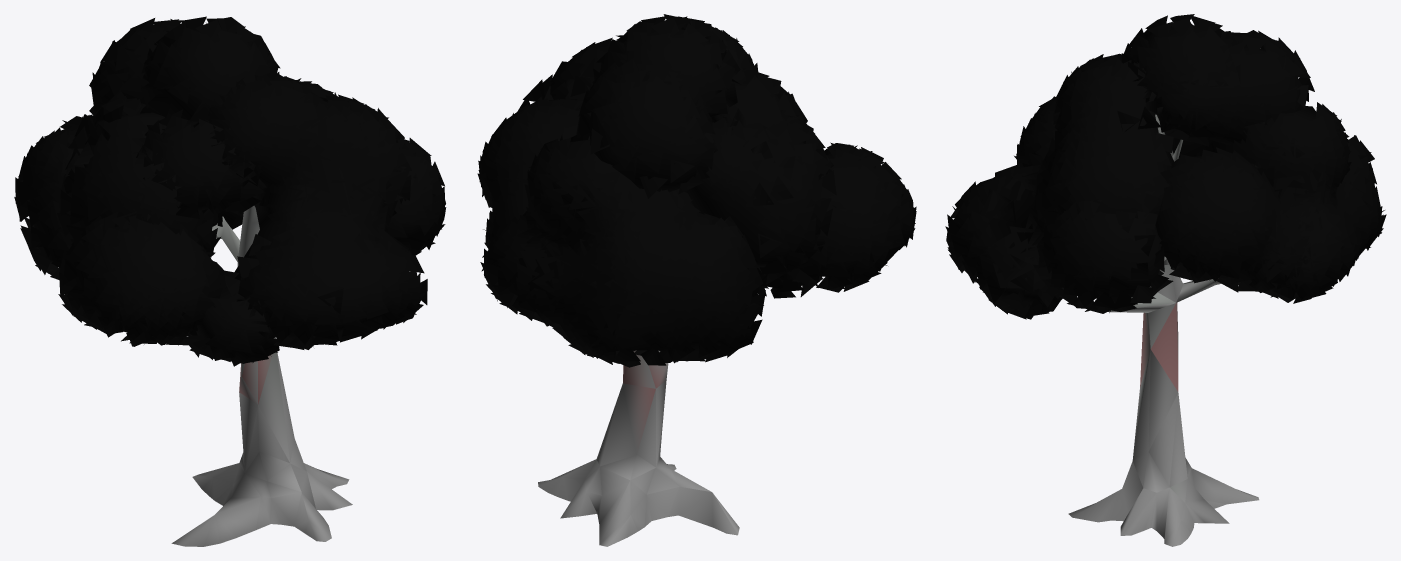
File: SM_ENV_LKNVLD_Tree_B_Lod1.gltf
3 views of the same model, side by side, from view 1: azimuth 30°, elevation 25°; view 2: azimuth 150°, elevation 25°; view 3: azimuth 270°, elevation 25° (orthographic). The views are drawn at different scales.
Visible parts, largest first — view 1: SM_ENV_LKNVLD_Tree_B_Lod1; view 2: SM_ENV_LKNVLD_Tree_B_Lod1; view 3: SM_ENV_LKNVLD_Tree_B_Lod1.
Part boxes in pixels (<box>): SM_ENV_LKNVLD_Tree_B_Lod1: <box>14,16,446,546</box>; SM_ENV_LKNVLD_Tree_B_Lod1: <box>477,14,916,546</box>; SM_ENV_LKNVLD_Tree_B_Lod1: <box>945,14,1386,546</box>.
Size of the model in its own units: 7.26 by 9.26 by 7.8.
